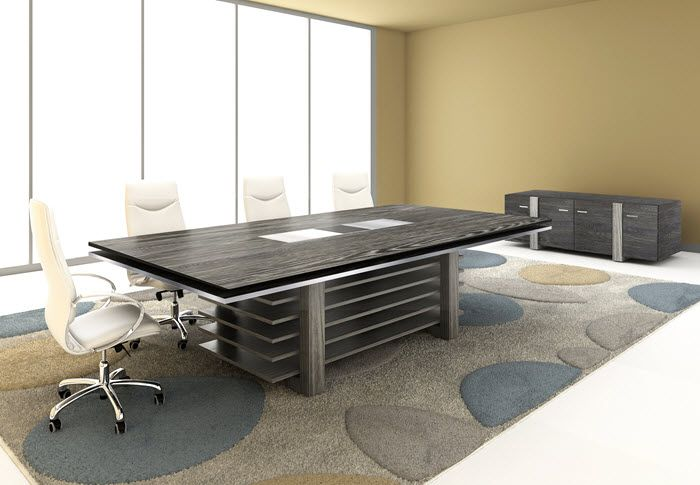conference_table: (88, 202, 552, 396)
